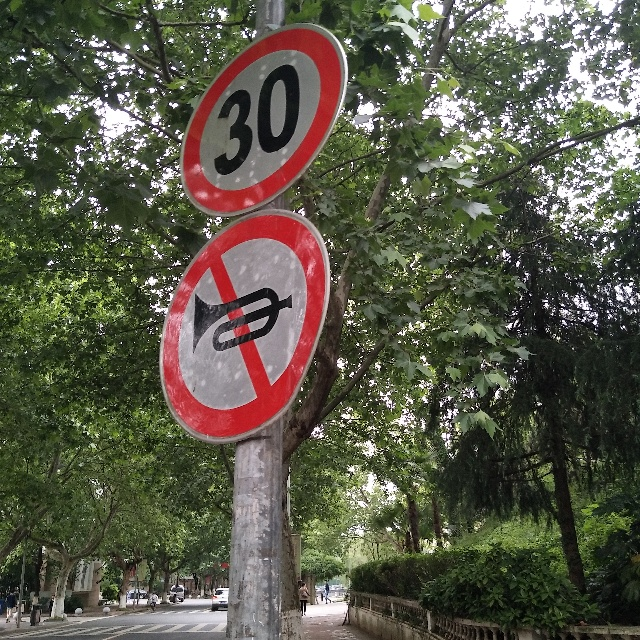nohonk: (173, 248, 310, 400)
